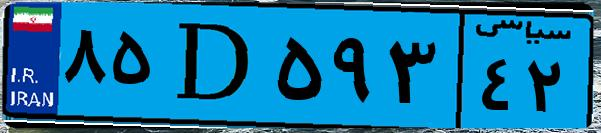2: (525, 38, 570, 115)
3: (385, 28, 445, 110)
4: (475, 38, 525, 113)
5: (270, 28, 330, 110), (110, 28, 158, 98)
8: (57, 26, 110, 100)
9: (330, 28, 385, 110)
D: (158, 12, 270, 120)
